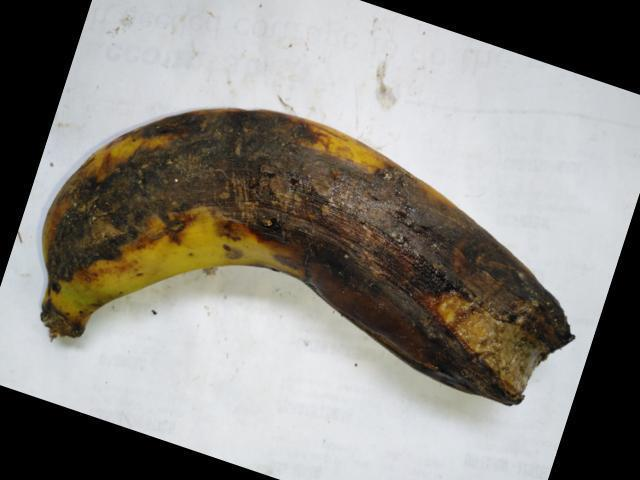rotten: (40, 90, 589, 422)
